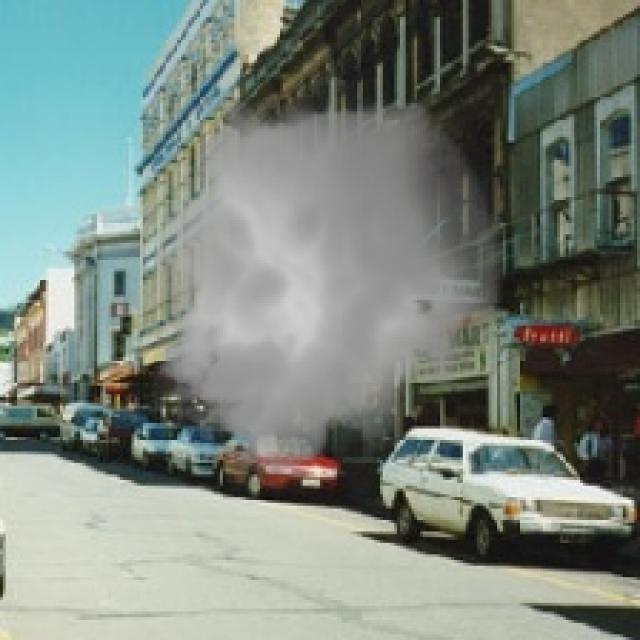Smoke: (137, 80, 514, 489)
